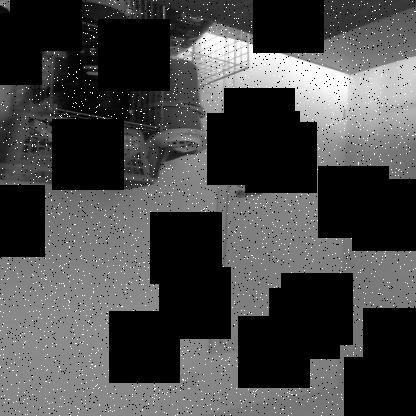Porte: (207, 37, 351, 354)
